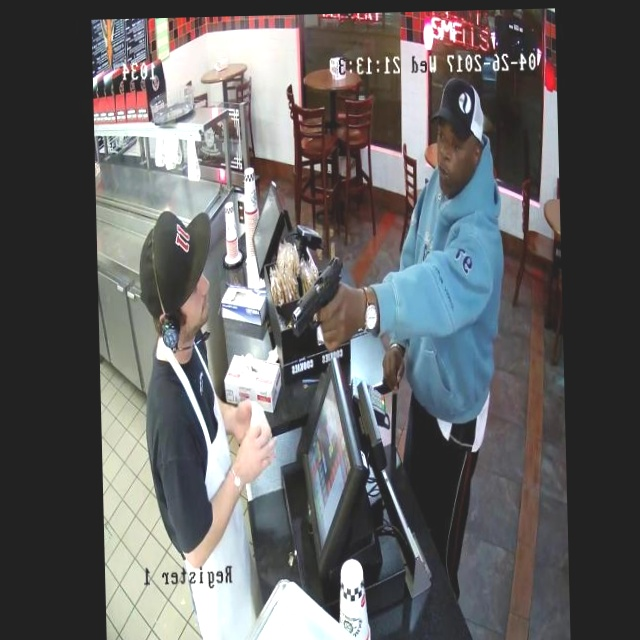gun: (276, 243, 361, 343)
